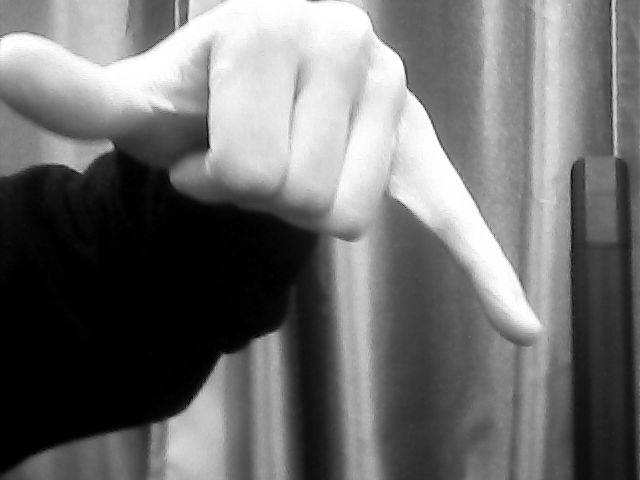aloha: (1, 3, 548, 356)
